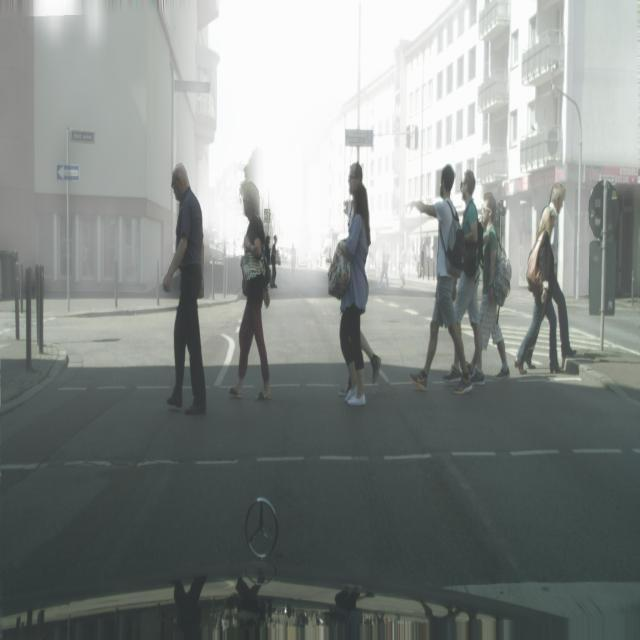bus: (405, 164, 473, 395), (514, 183, 576, 374), (162, 162, 207, 415), (338, 162, 381, 407), (228, 179, 271, 401), (454, 171, 485, 384), (479, 191, 512, 379), (377, 243, 390, 289), (270, 236, 278, 288), (290, 244, 297, 278)
